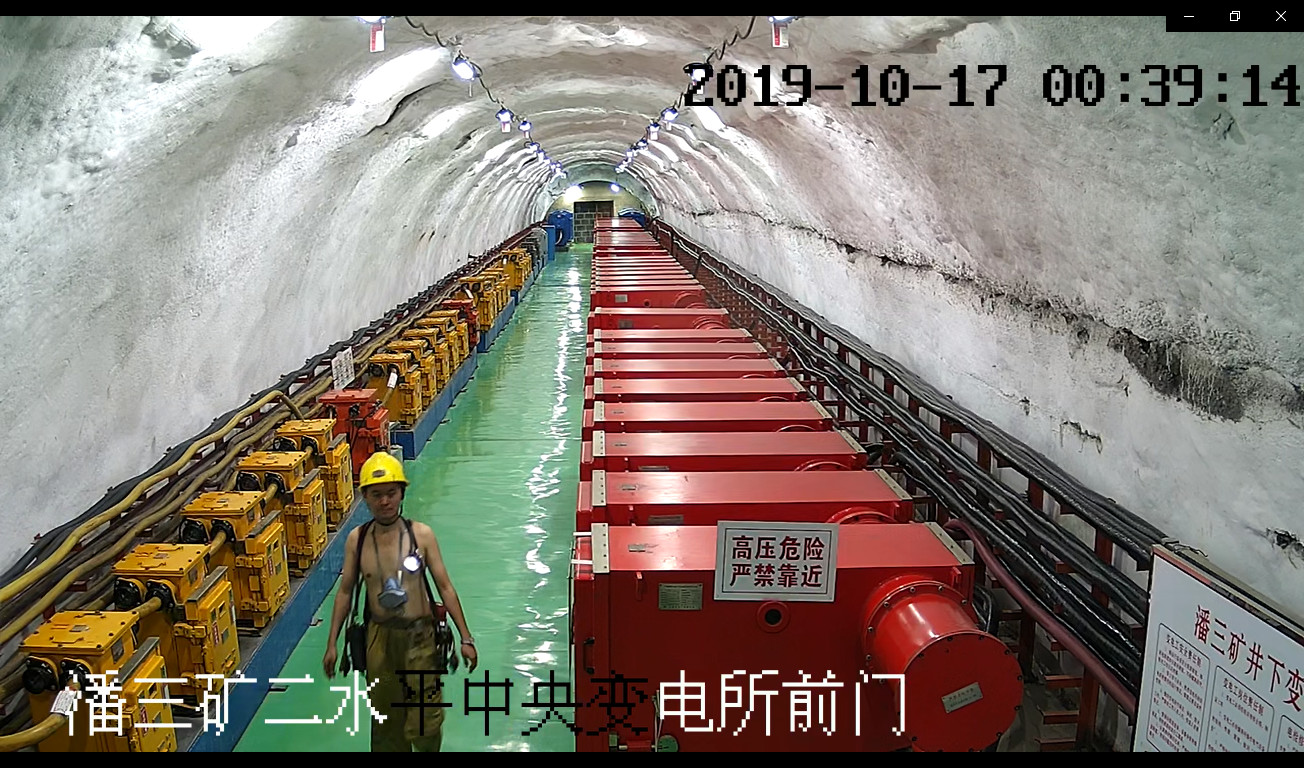helmet: (356, 450, 410, 491)
